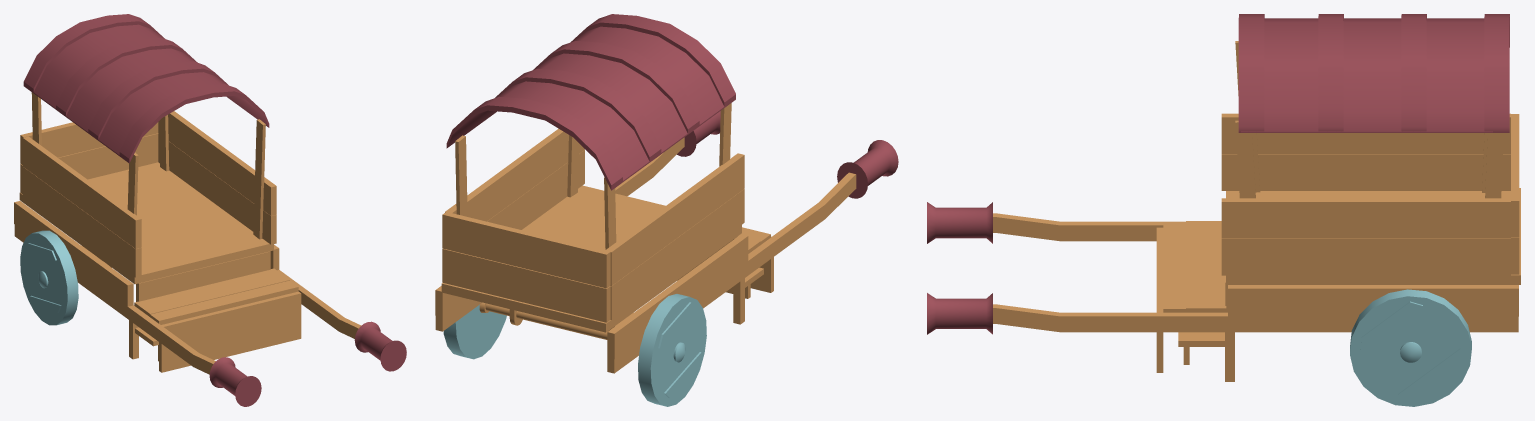
The model's file is CarretaMedieval.fbx.
3 views of the same model, side by side, from view 1: azimuth 30°, elevation 25°; view 2: azimuth 150°, elevation 25°; view 3: azimuth 270°, elevation 25° (orthographic). The views are drawn at different scales.
Parts seen in each view (by area): view 1: polySurface20, pCube43, polySurface5; view 2: polySurface20, pCube43, polySurface5; view 3: polySurface20, pCube43, polySurface5.
Boxes of the visible parts, x1,y1,x2,y2 form: polySurface20: (14,92,361,374); pCube43: (23,14,406,406); polySurface5: (20,230,78,325); polySurface20: (435,103,856,373); pCube43: (446,14,898,198); polySurface5: (443,294,706,406); polySurface20: (993,41,1520,381); pCube43: (927,14,1509,334); polySurface5: (1350,289,1471,406).
Bounding box in the file's own units: 6.77 × 8.79 × 14.54.
